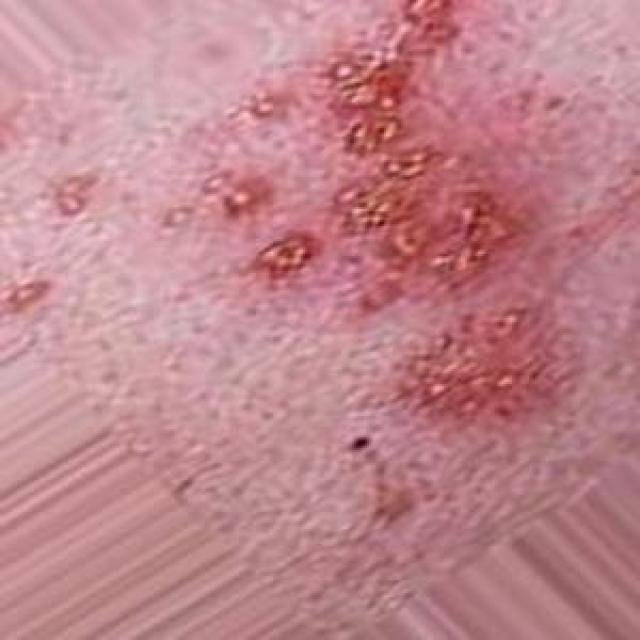Shingles: (262, 0, 499, 288), (402, 307, 534, 422)
